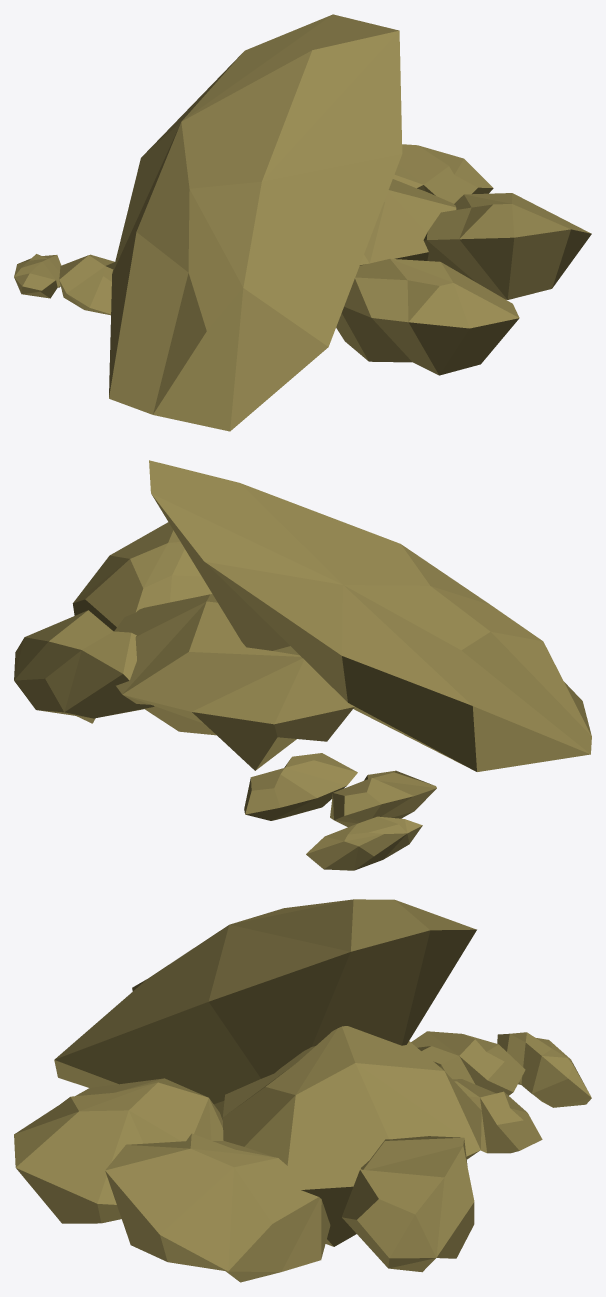
Rendered from low poly rock small 2.fbx.
The picture shows the model from 3 angles, top to bottom: view 1: azimuth 30°, elevation 25°; view 2: azimuth 150°, elevation 25°; view 3: azimuth 270°, elevation 25°; orthographic projection. The views are drawn at different scales.
Parts seen in each view (by area): view 1: Plane.018; view 2: Plane.018; view 3: Plane.018.
Part boxes in pixels (x1,y1,x2,y2): Plane.018: (14,14,591,431); Plane.018: (14,460,591,870); Plane.018: (14,899,591,1282).
Bounding box in the file's own units: 246 × 126 × 211.
